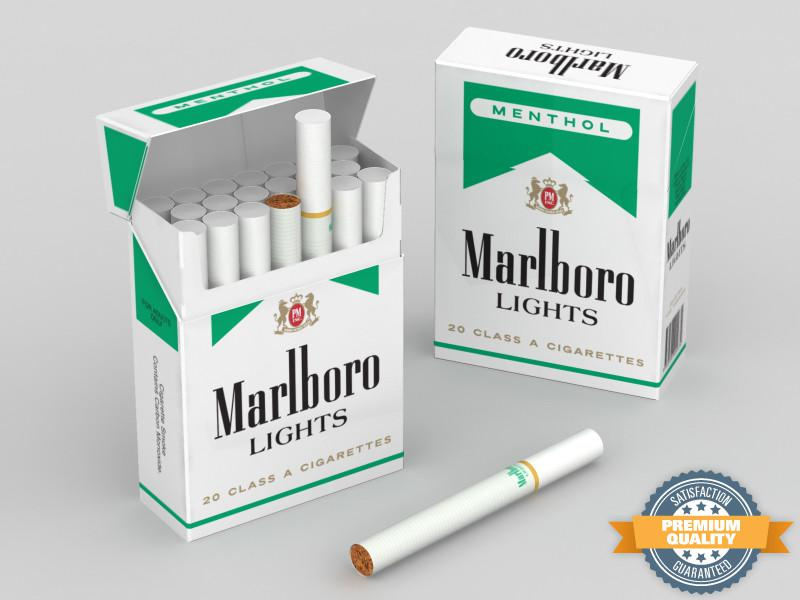marlboro_mentol: (431, 95, 667, 360), (185, 265, 402, 471)
